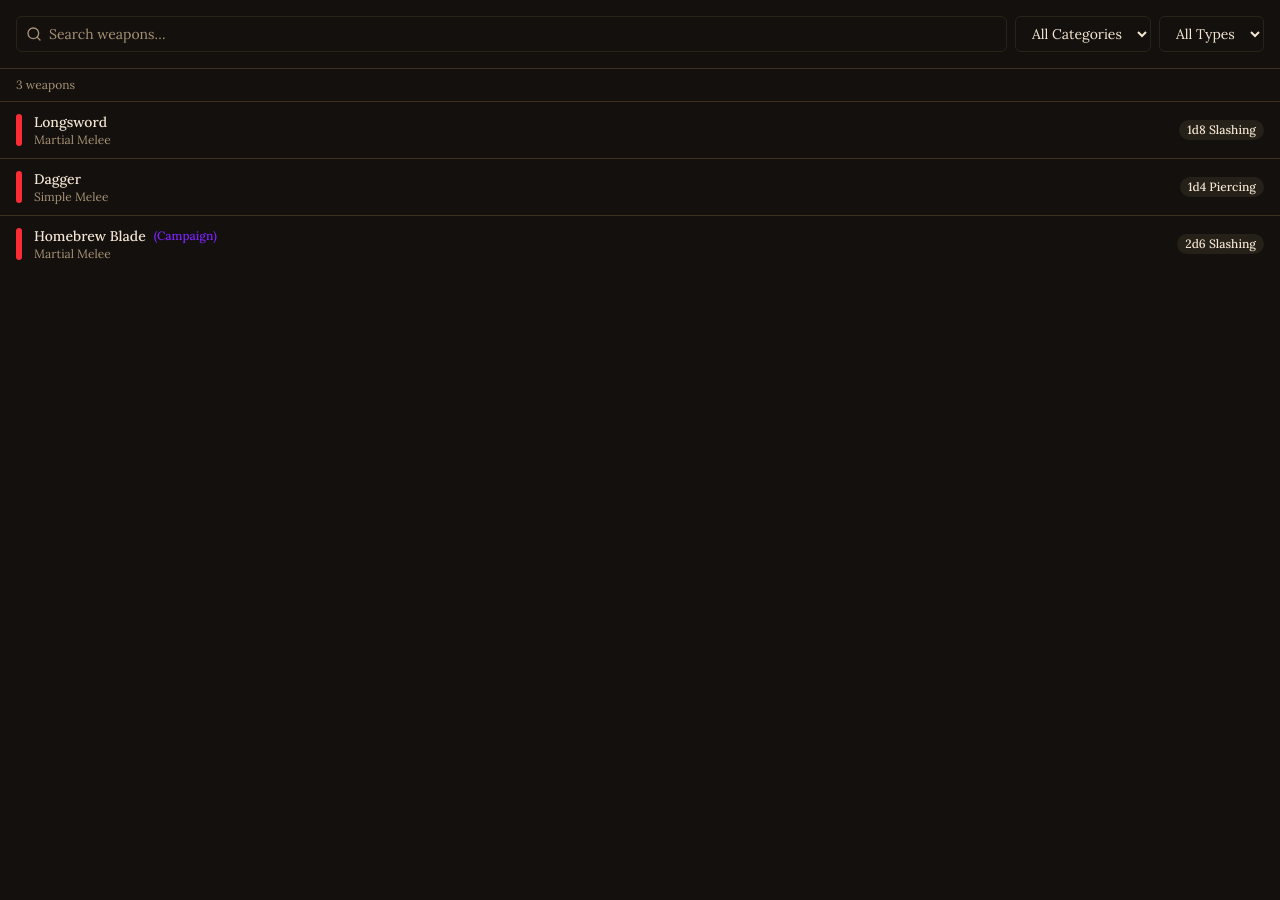
it: ItemsTab › opens the detail dialog when a row is clicked
This screenshot has width=1280, height=900.
Expected: the text "Longsword" is shown, [34,112,107,132]
Click the button with test id "item-row-1".
click(71, 122)  # box [0,102,1279,159]
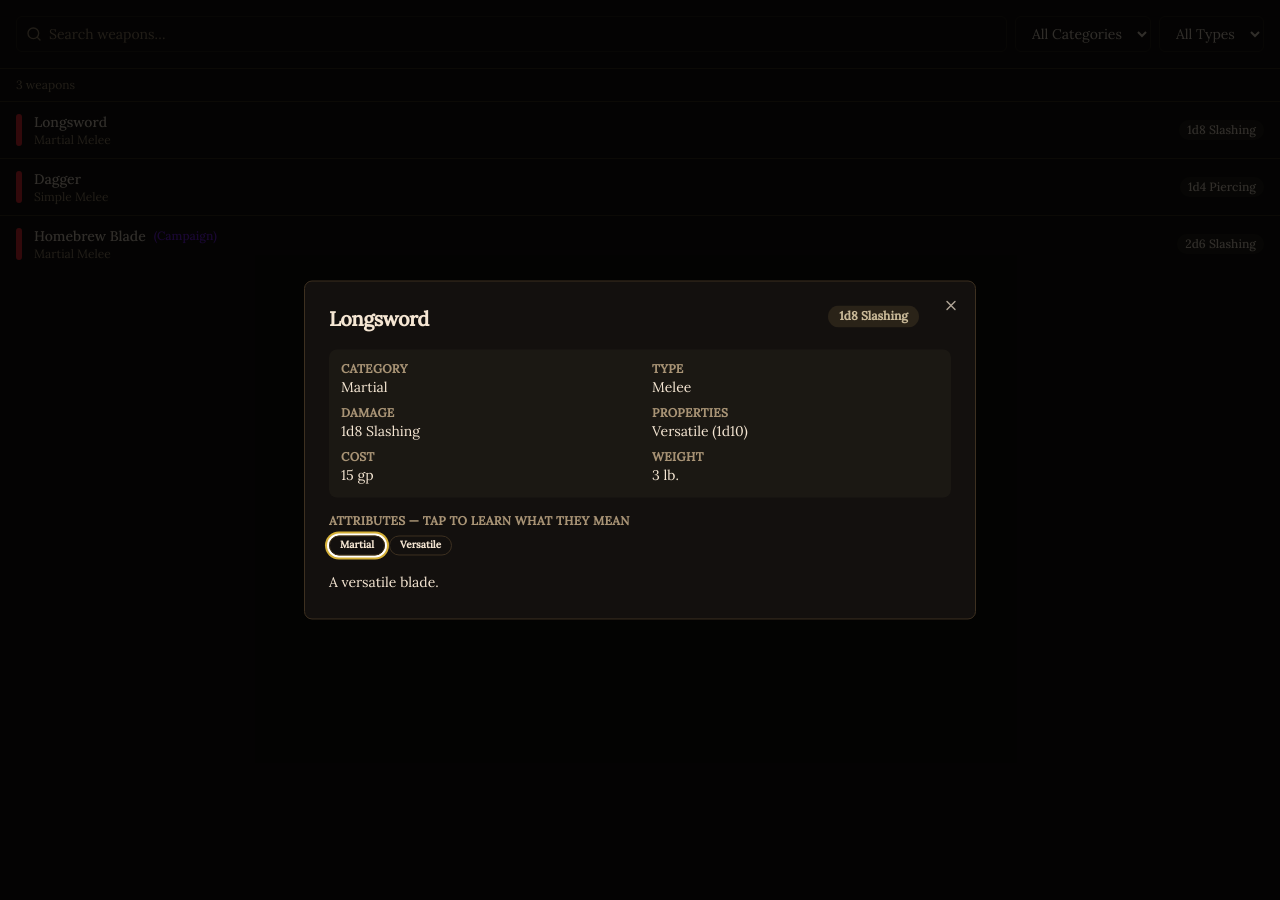
Expected: the text "A versatile blade." is shown, [329,574,439,592]
